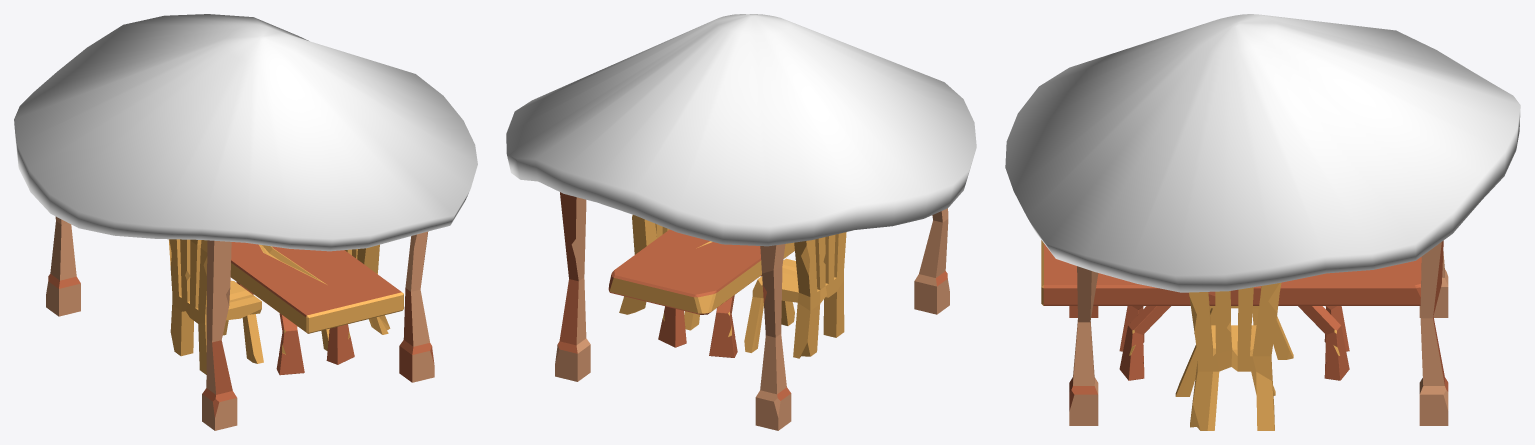
The model's file is besedka.fbx.
3 views of the same model, side by side, from view 1: azimuth 30°, elevation 25°; view 2: azimuth 150°, elevation 25°; view 3: azimuth 270°, elevation 25° (orthographic). The views are drawn at different scales.
Visible parts, largest first — view 1: Cylinder, Cube.002, Cube, Cube.003, Cube.001, Cube.004; view 2: Cylinder, Cube.002, Cube, Cube.003, Cube.001, Cube.004; view 3: Cylinder, Cube.004, Cube, Cube.002, Cube.001, Cube.003.
Part boxes in pixels (x1,y1,x2,y2): Cylinder: [14, 14, 477, 251]; Cube.002: [46, 216, 434, 430]; Cube: [230, 242, 403, 333]; Cube.003: [168, 239, 263, 374]; Cube.001: [236, 282, 354, 375]; Cube.004: [297, 244, 390, 351]; Cylinder: [506, 14, 976, 246]; Cube.002: [555, 192, 949, 430]; Cube: [608, 229, 794, 314]; Cube.003: [744, 232, 846, 358]; Cube.001: [658, 275, 761, 357]; Cube.004: [619, 215, 699, 330]; Cylinder: [1005, 14, 1520, 292]; Cube.004: [1175, 282, 1281, 430]; Cube: [1041, 240, 1421, 305]; Cube.002: [1069, 240, 1448, 425]; Cube.001: [1119, 306, 1349, 380]; Cube.003: [1194, 306, 1293, 359].
Size of the model in its own units: 826 by 606 by 813.
